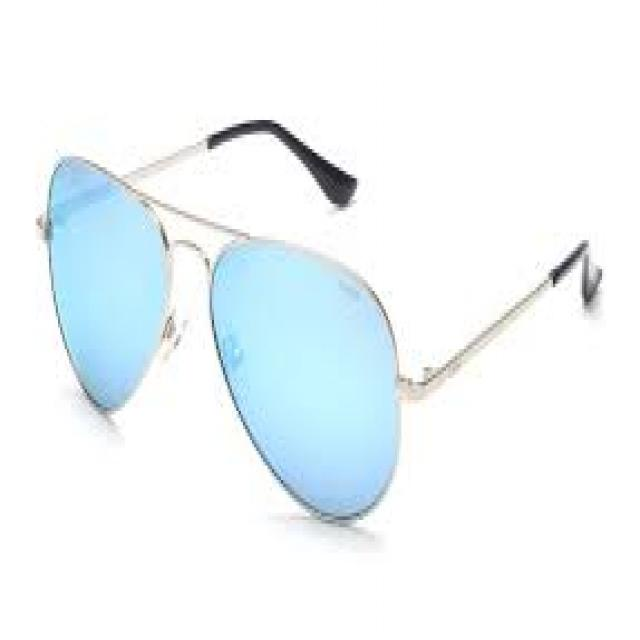suspicious-objects: (48, 154, 407, 536)
